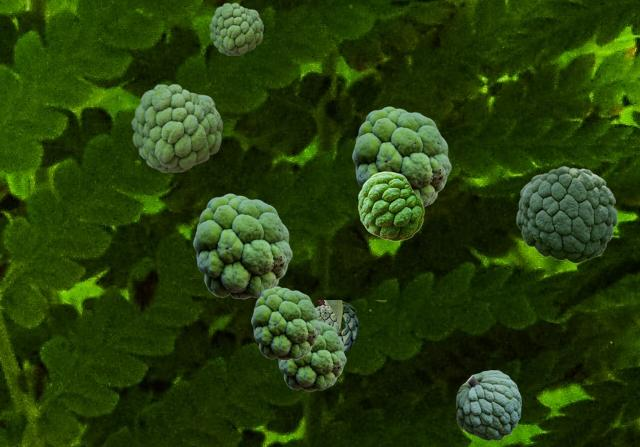atis: (193, 193, 291, 298), (352, 106, 450, 207), (516, 166, 616, 262), (131, 84, 221, 171), (251, 286, 320, 359), (278, 321, 345, 390), (358, 171, 423, 240), (456, 370, 520, 439), (314, 300, 385, 352), (209, 3, 262, 54)
